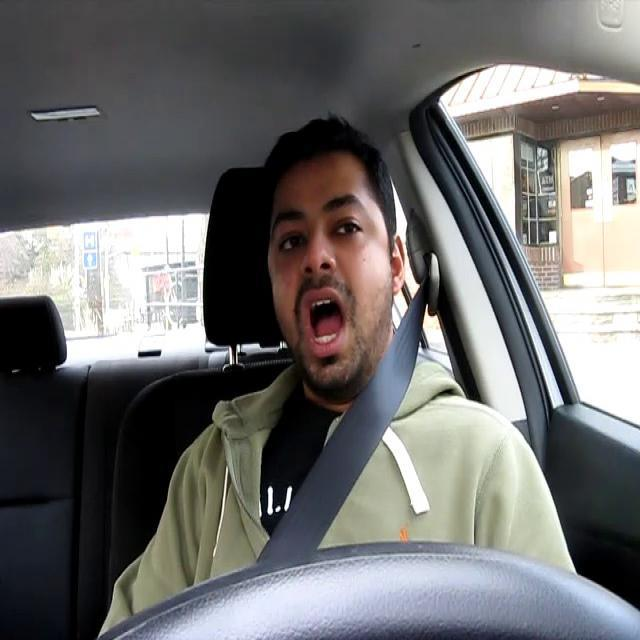open-mouth: (301, 286, 348, 359)
